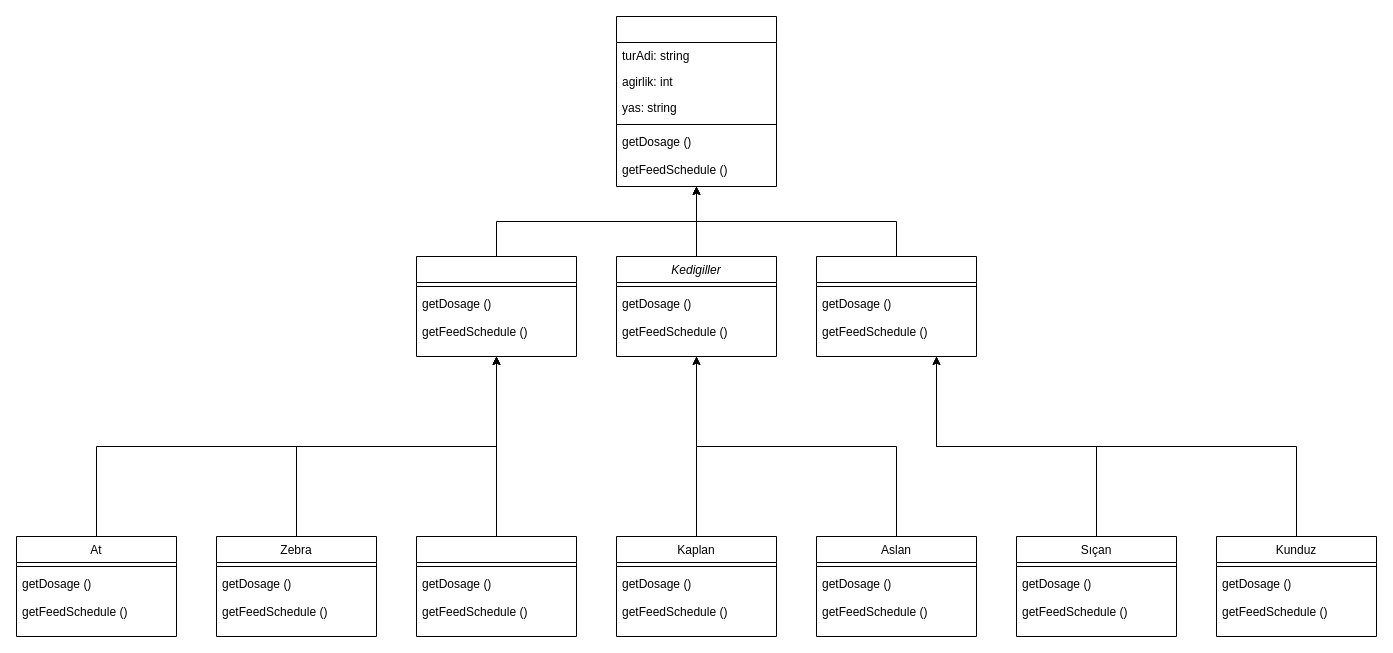
The diagram is 1393 pixels wide and 653 high, and some of its shapes have lost their labels. Each missing label, with the box of its shape:
Atlar: (416, 256, 576, 356)
Eşek: (416, 536, 576, 636)
Hayvanlar: (616, 16, 776, 186)
Kemirgenler: (816, 256, 976, 356)
